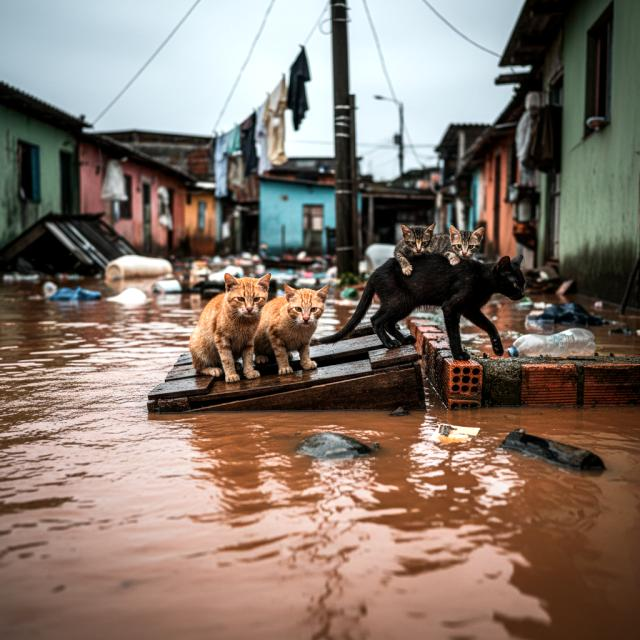cat: (317, 249, 527, 364), (192, 266, 274, 388), (260, 272, 335, 382), (431, 222, 493, 266), (393, 225, 443, 275)
